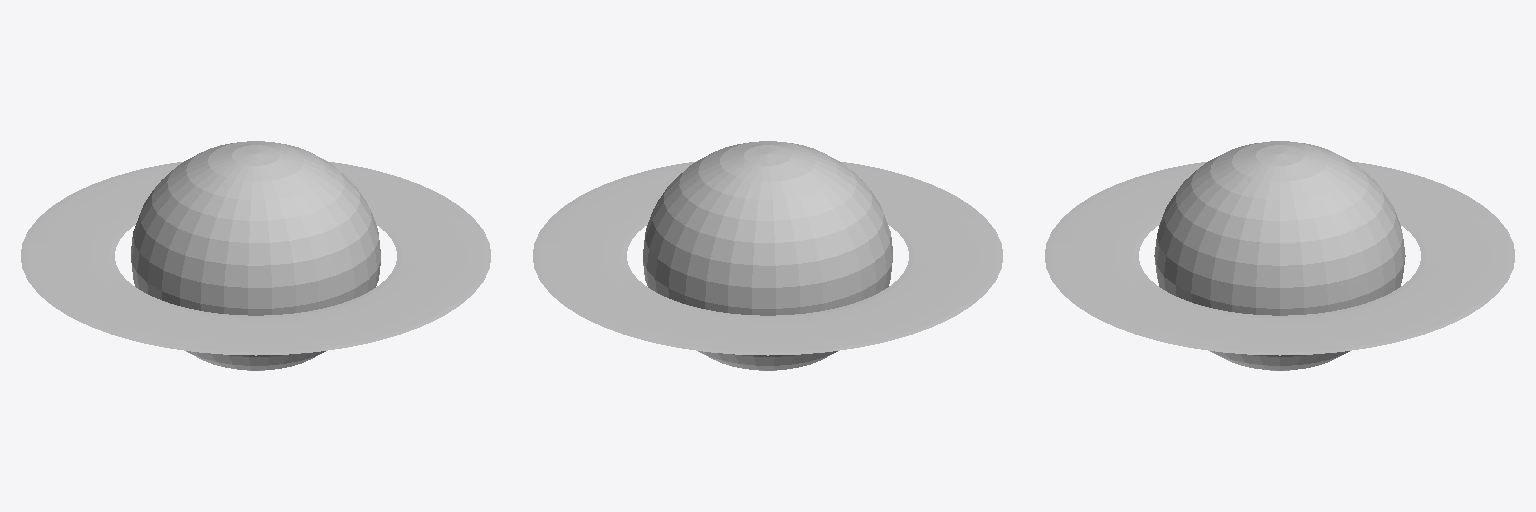
The model's file is saturn.obj.
3 renders of one model, left to right at view 1: azimuth 30°, elevation 25°; view 2: azimuth 150°, elevation 25°; view 3: azimuth 270°, elevation 25°, orthographic.
Visible parts, largest first — view 1: Torus, Sphere; view 2: Torus, Sphere; view 3: Torus, Sphere.
Part boxes in pixels (bbox=[...]): Torus: bbox=[21, 161, 490, 355]; Sphere: bbox=[131, 141, 380, 370]; Torus: bbox=[533, 161, 1002, 355]; Sphere: bbox=[643, 141, 892, 370]; Torus: bbox=[1045, 162, 1514, 355]; Sphere: bbox=[1154, 141, 1405, 370].
Bounding box in the file's own units: 3.75 × 1.8 × 3.75.